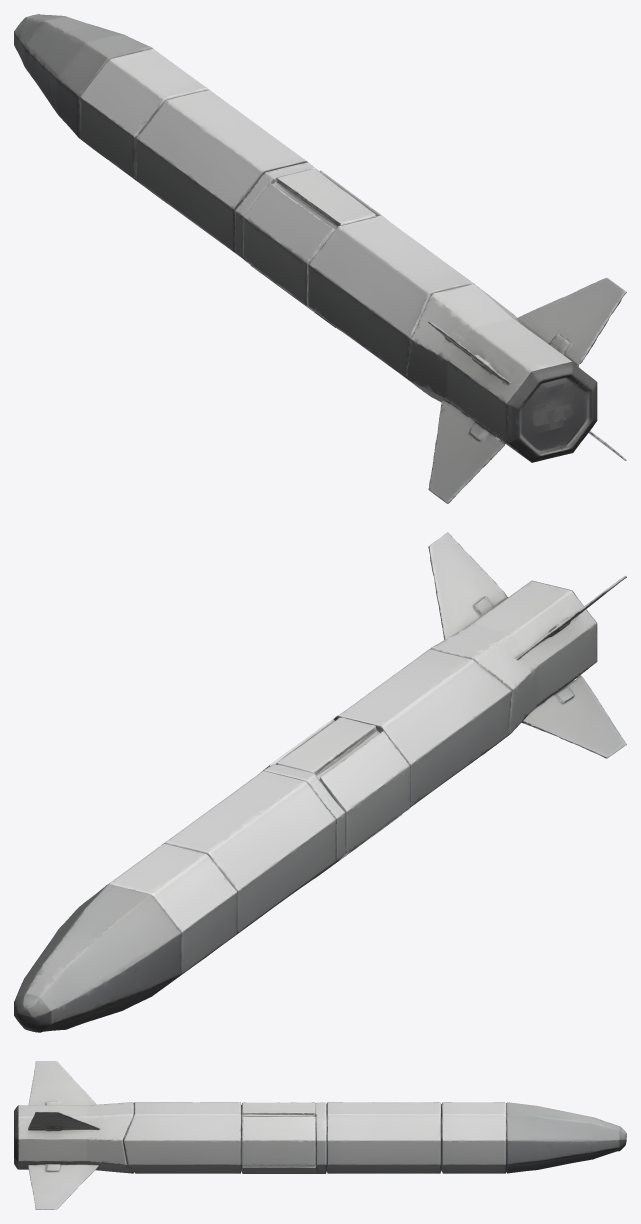
Rendered from missil.glb.
3 renders of one model, top to bottom at view 1: azimuth 30°, elevation 25°; view 2: azimuth 150°, elevation 25°; view 3: azimuth 270°, elevation 25°, orthographic. The views are drawn at different scales.
Parts seen in each view (by area): view 1: tripo_node_57d6755d-94d0-4f35-8663-0d12e76b4d6c; view 2: tripo_node_57d6755d-94d0-4f35-8663-0d12e76b4d6c; view 3: tripo_node_57d6755d-94d0-4f35-8663-0d12e76b4d6c.
Part boxes in pixels (x1,y1,x2,y2): tripo_node_57d6755d-94d0-4f35-8663-0d12e76b4d6c: (14,14,626,503); tripo_node_57d6755d-94d0-4f35-8663-0d12e76b4d6c: (14,532,626,1032); tripo_node_57d6755d-94d0-4f35-8663-0d12e76b4d6c: (14,1061,626,1209).
Bounding box in the file's own units: 0.197 × 0.1776 × 1.
Materials: 1 (1 with a texture image).
